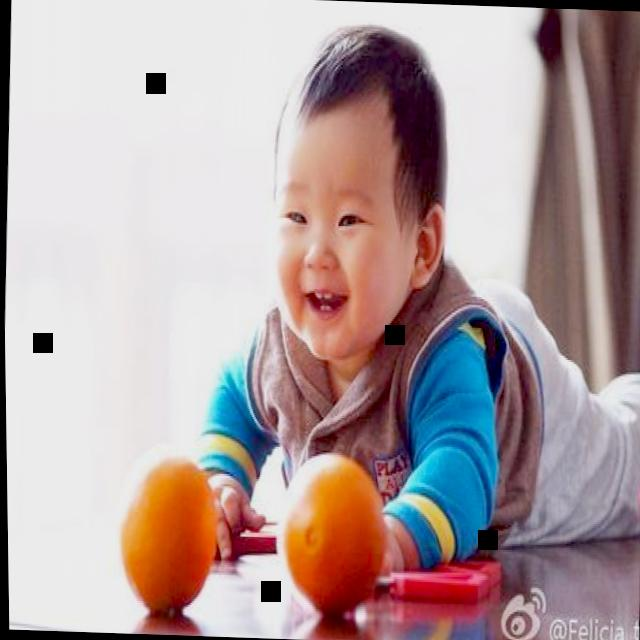Fall-Detected: (133, 8, 640, 597)
